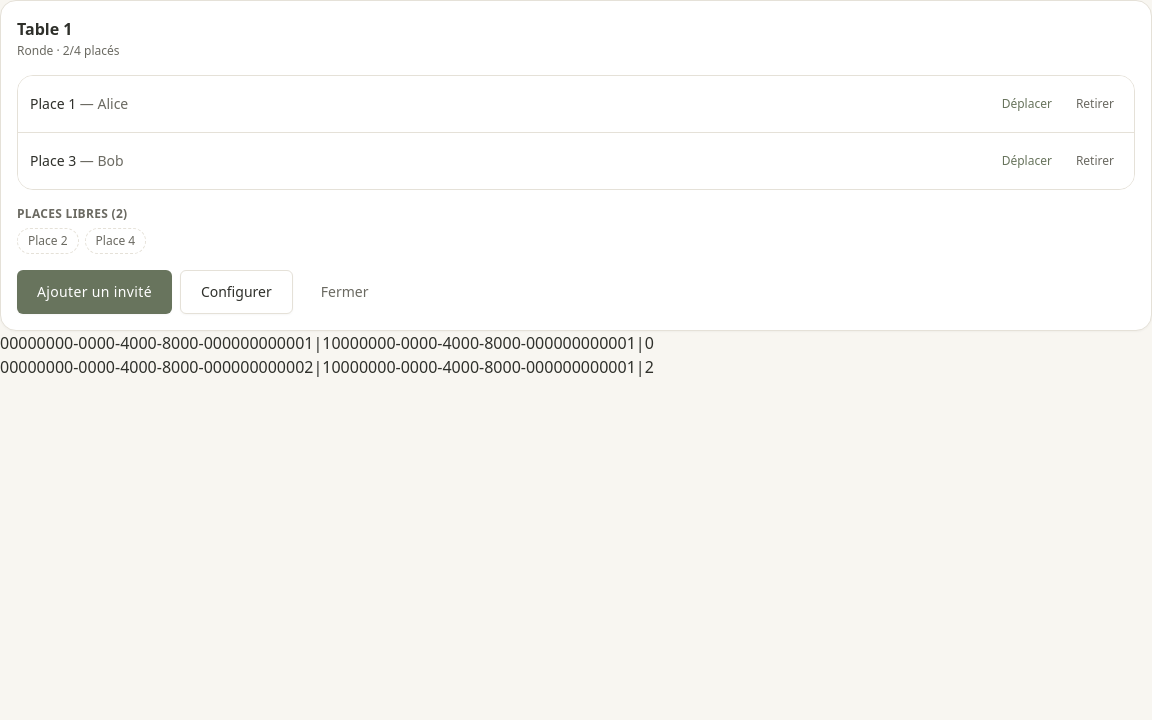
Scenario: TableDetailPanel › opens the placement sheet to reassign a guest
The image size is (1152, 720).
Click the button "Déplacer" in the row of "Place 1": [1027, 104] box [994,82,1060,126]
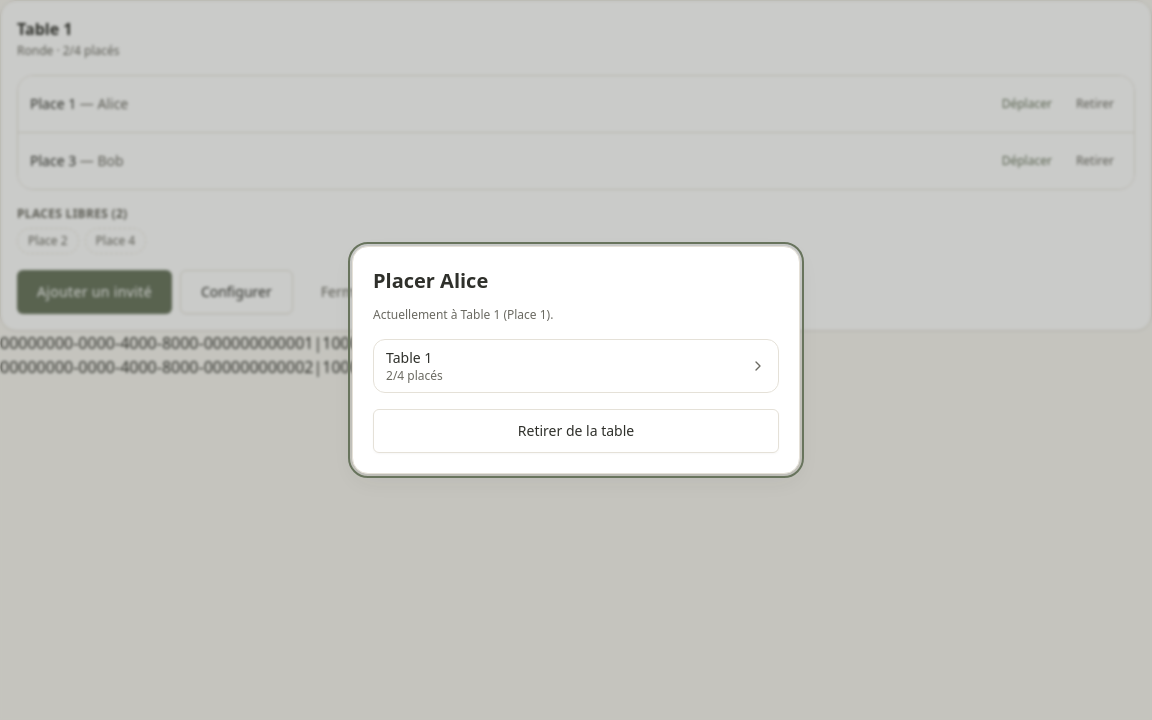
Result: the dialog "Placer Alice" is shown at [352,246,800,474]
